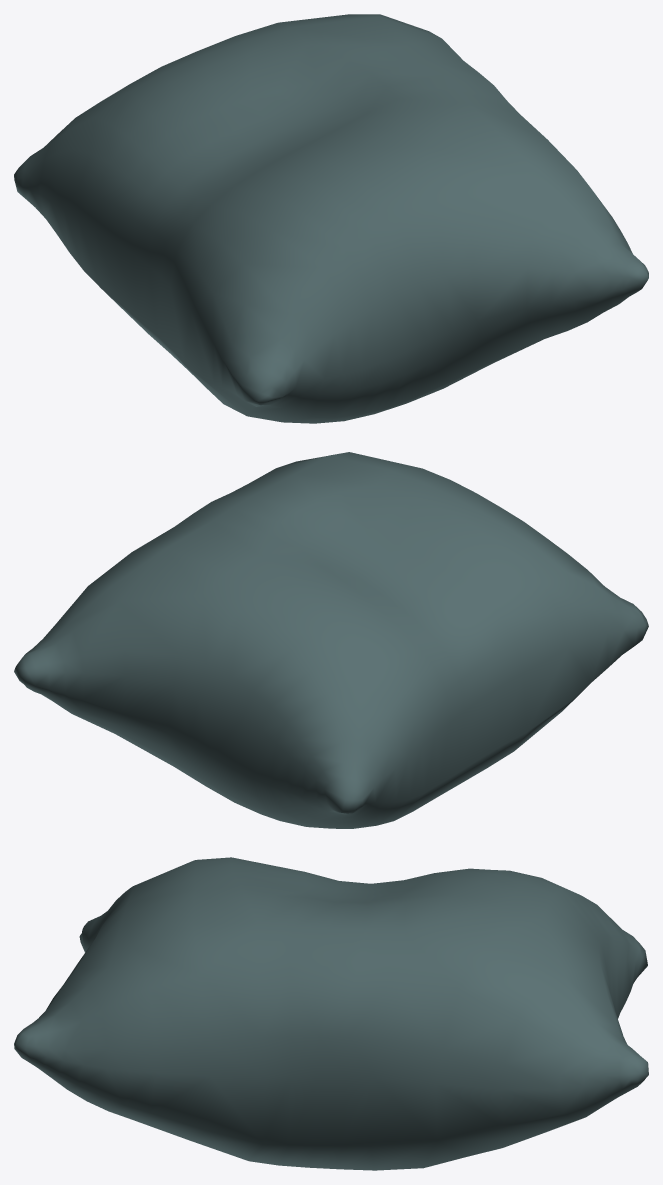
The model's file is pillow.fbx.
The picture shows the model from 3 angles, top to bottom: view 1: azimuth 30°, elevation 25°; view 2: azimuth 150°, elevation 25°; view 3: azimuth 270°, elevation 25°; orthographic projection. The views are drawn at different scales.
Parts seen in each view (by area): view 1: pillow1; view 2: pillow1; view 3: pillow1.
Boxes of the visible parts, bbox=[...] form: pillow1: bbox=[14, 14, 648, 423]; pillow1: bbox=[14, 452, 648, 828]; pillow1: bbox=[14, 857, 648, 1170].
Bounding box in the file's own units: 22.49 × 13.51 × 29.58.
